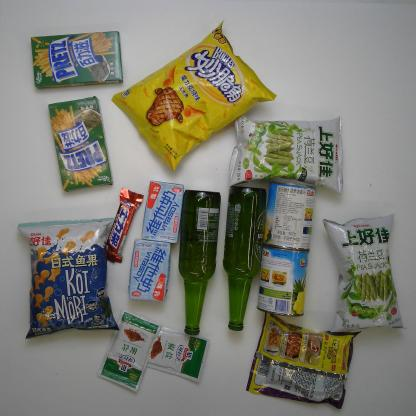Alcohol: (222, 183, 267, 332), (180, 188, 220, 335)
Canned Food: (258, 242, 316, 320), (261, 179, 318, 252)
Chocolate: (106, 185, 142, 265)
Dessert: (37, 93, 112, 193), (25, 29, 126, 98)
Instant Noodles: (245, 306, 365, 410)
Milk: (127, 238, 180, 308), (141, 177, 188, 244)
Puffed Food: (115, 15, 278, 168), (11, 216, 124, 335), (321, 208, 411, 336), (232, 106, 352, 190)
Seasoner: (100, 305, 162, 393), (146, 326, 230, 380)
